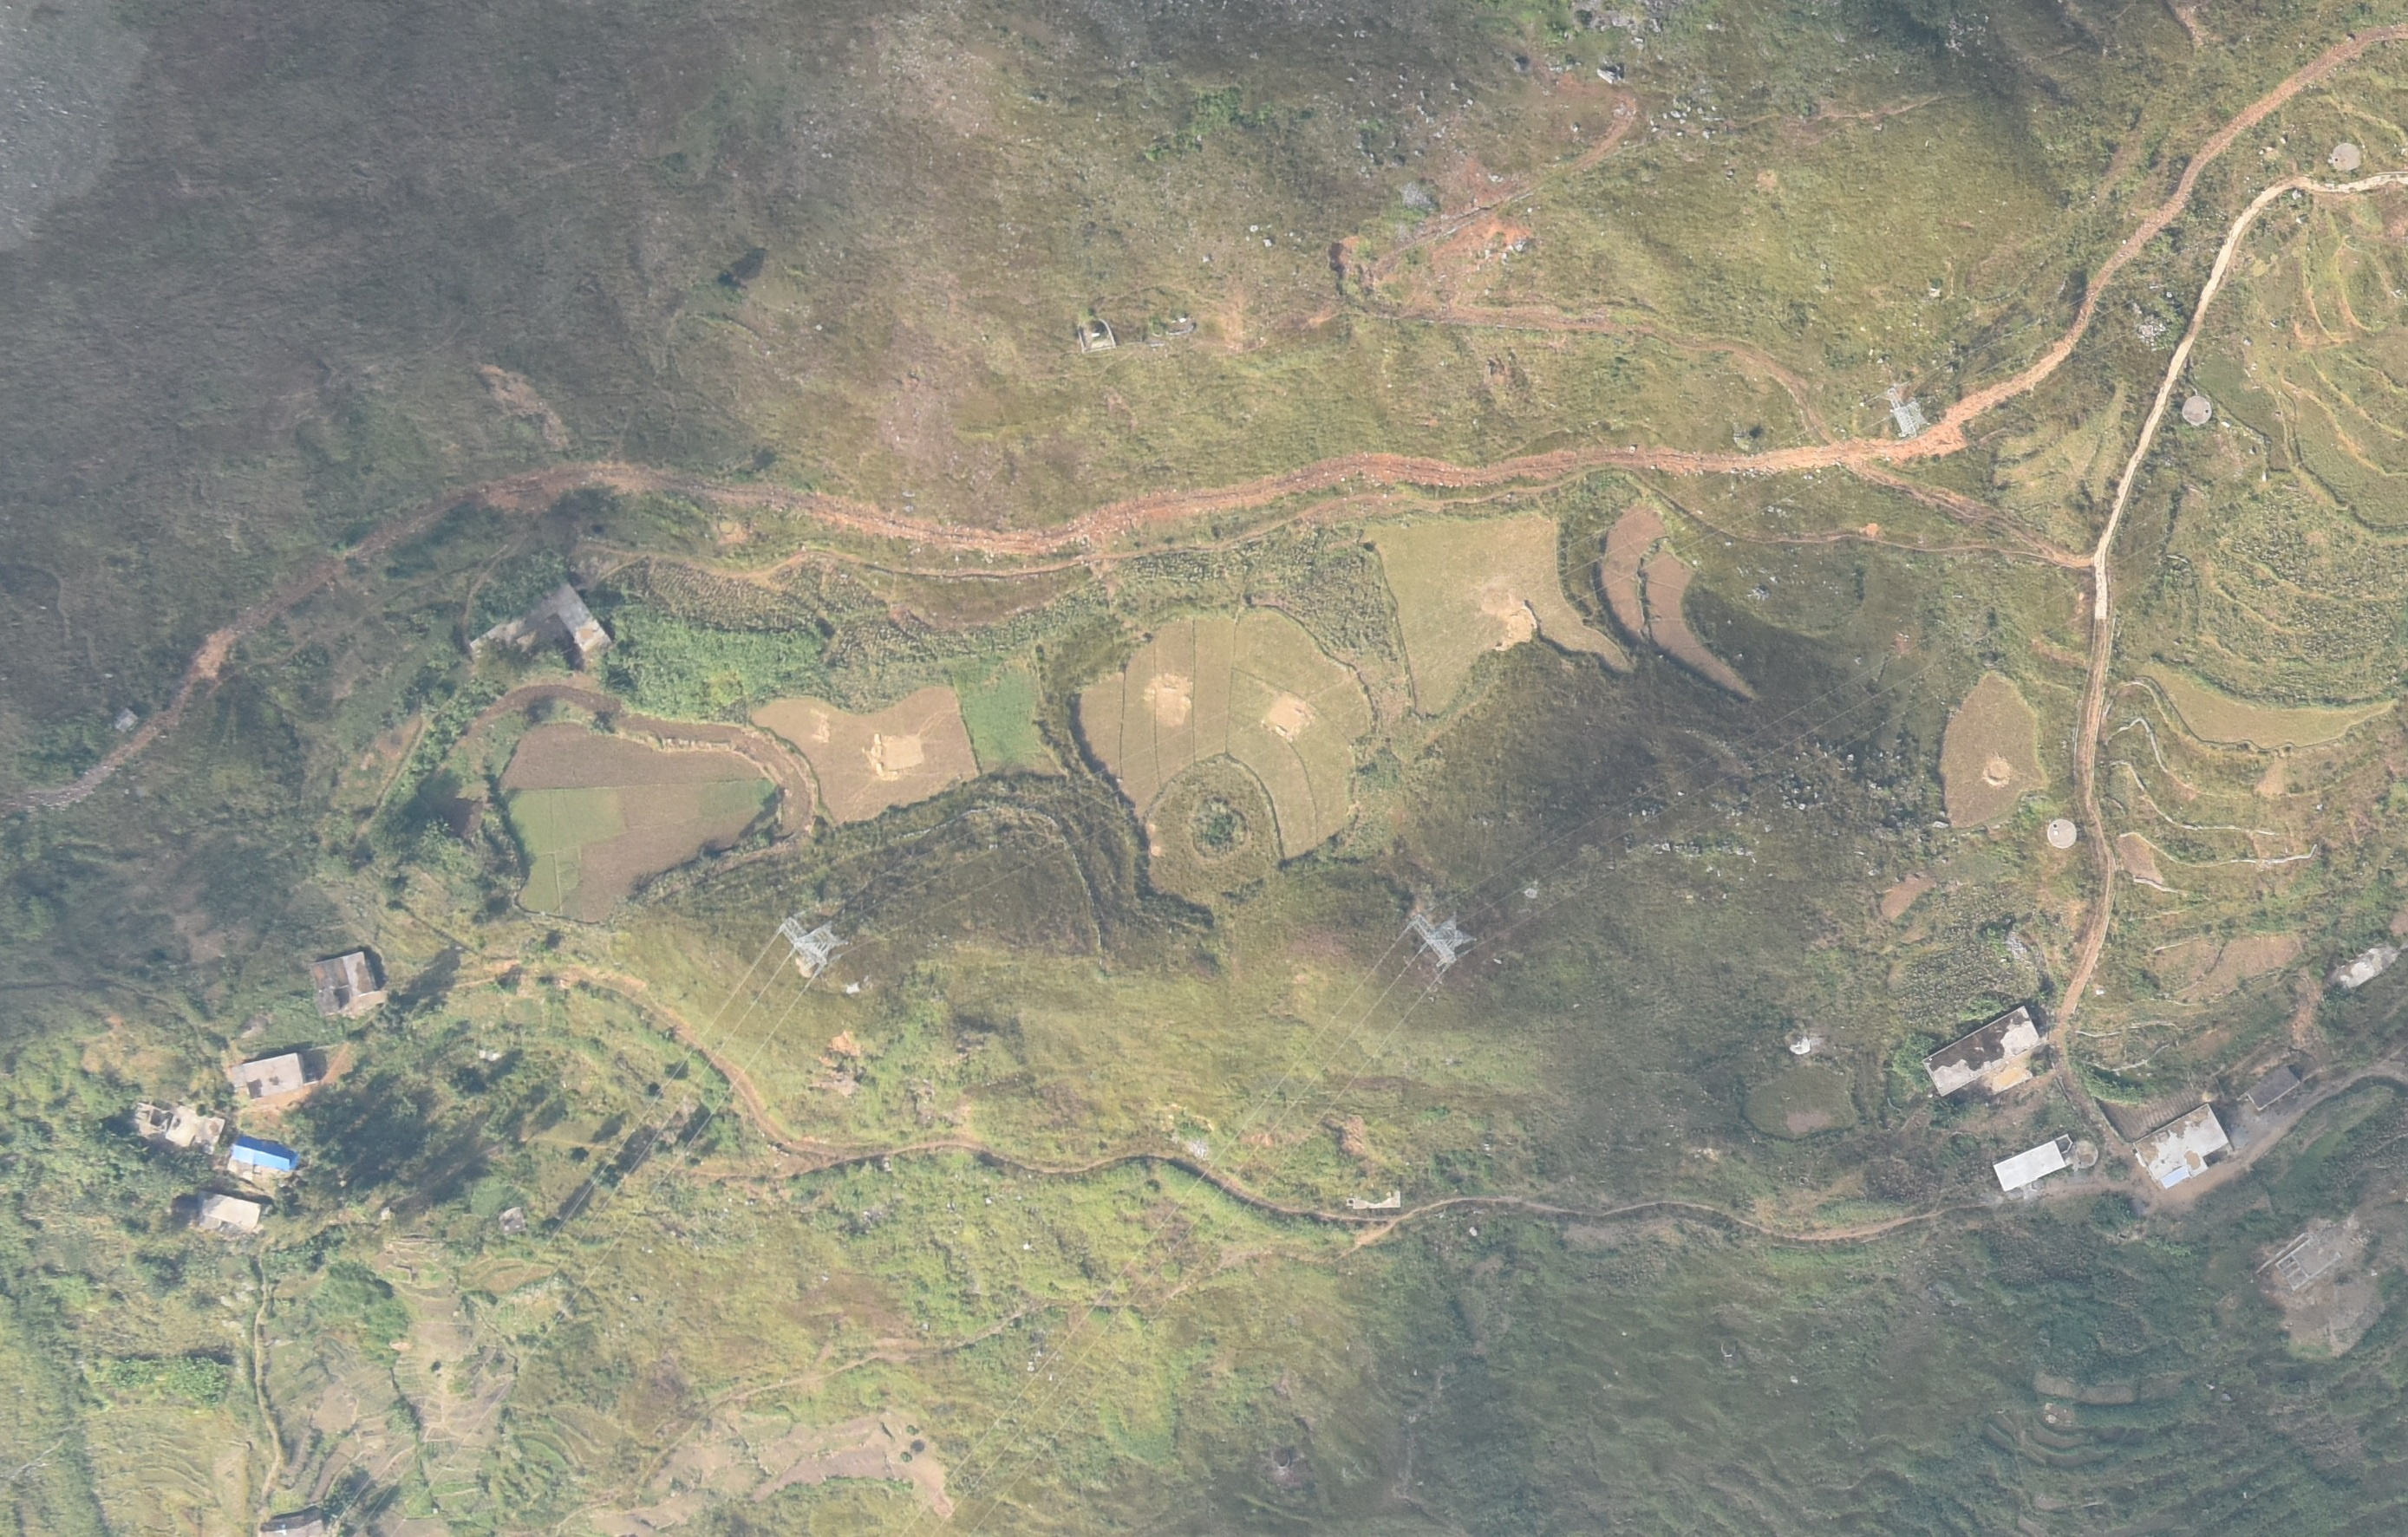building: (1920, 1007, 2046, 1097), (470, 586, 613, 665), (2136, 1104, 2232, 1190), (125, 1093, 225, 1158), (1992, 1133, 2073, 1190), (314, 951, 372, 1016), (232, 1053, 302, 1098), (193, 1193, 263, 1225), (2248, 1069, 2303, 1107)
cable-tower: (1409, 909, 1473, 977), (779, 911, 844, 970), (1883, 381, 1932, 442)
prefabricated-house: (226, 1133, 300, 1170)
well: (2333, 142, 2366, 175), (2046, 816, 2078, 851), (2182, 395, 2213, 426), (2071, 1140, 2101, 1169)
